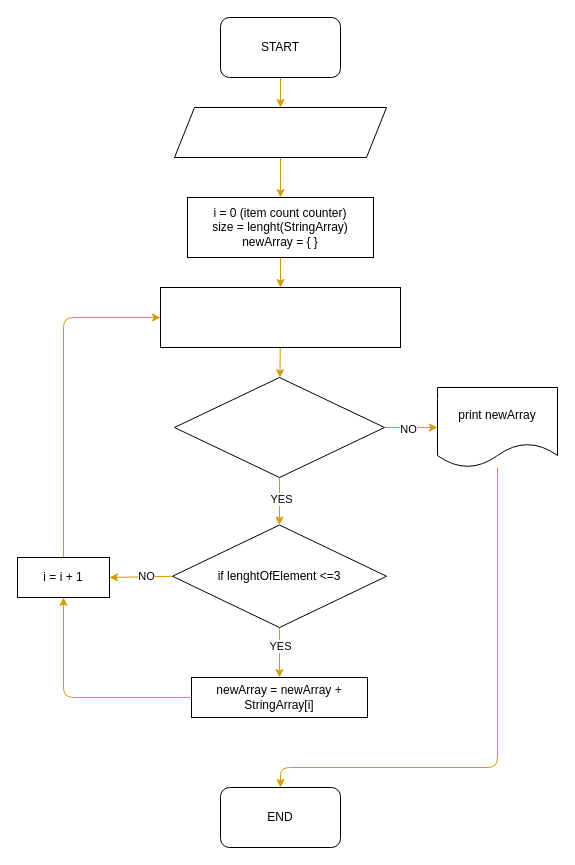
This 575x865 diagram has some shape labels left out. Here are the shapes that lost their labels. From the top down, the centre of each, then its label:
At pixel 280 132: "StringArray = input()".
At pixel 280 317: "lenghtOfElement = lenght of StringArray[i]".
At pixel 279 427: "i < size".
